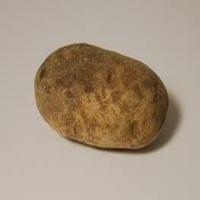biodegradable: (33, 41, 170, 151)
